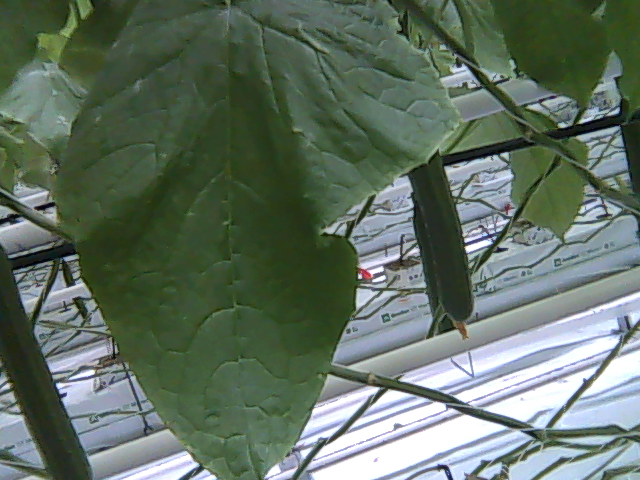concombre: (1, 242, 99, 480), (405, 149, 476, 342)
